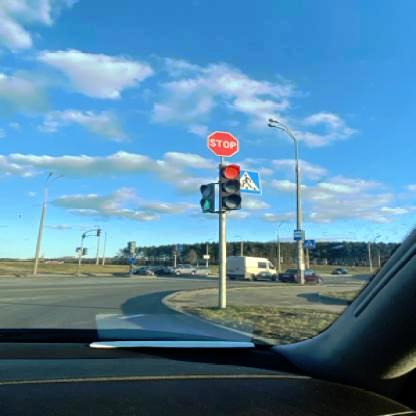Stop Sign: (205, 129, 241, 159)
